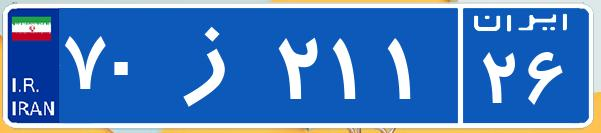0: (110, 28, 158, 105)
1: (385, 28, 445, 110), (330, 28, 385, 110)
2: (273, 28, 330, 110), (475, 38, 525, 113)
6: (525, 38, 570, 115)
7: (57, 26, 110, 107)
ز: (158, 15, 273, 115)
